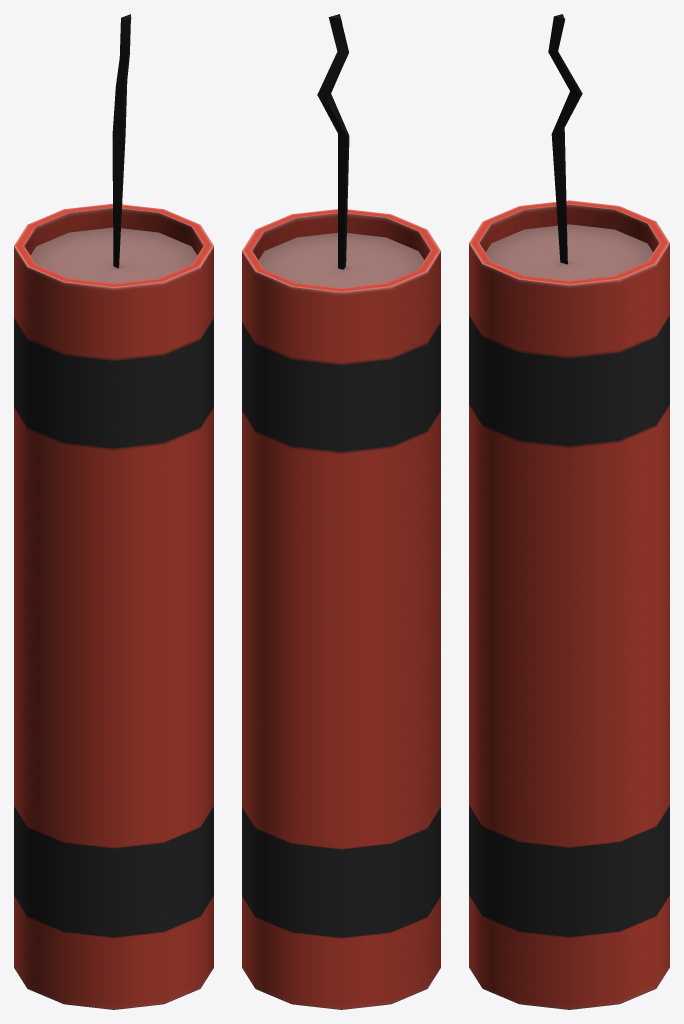
Rendered from Weapon_grenade01.fbx.
The picture shows the model from 3 angles, left to right: view 1: azimuth 30°, elevation 25°; view 2: azimuth 150°, elevation 25°; view 3: azimuth 270°, elevation 25°; orthographic projection.
Visible parts, largest first — view 1: Weapon_grenade01; view 2: Weapon_grenade01; view 3: Weapon_grenade01.
Boxes of the visible parts, box(x1,y1,x2,y2) form: Weapon_grenade01: box(14, 14, 213, 1009); Weapon_grenade01: box(242, 14, 440, 1009); Weapon_grenade01: box(469, 14, 669, 1009).
Size of the model in its own units: 1.43 by 7.52 by 1.43.
